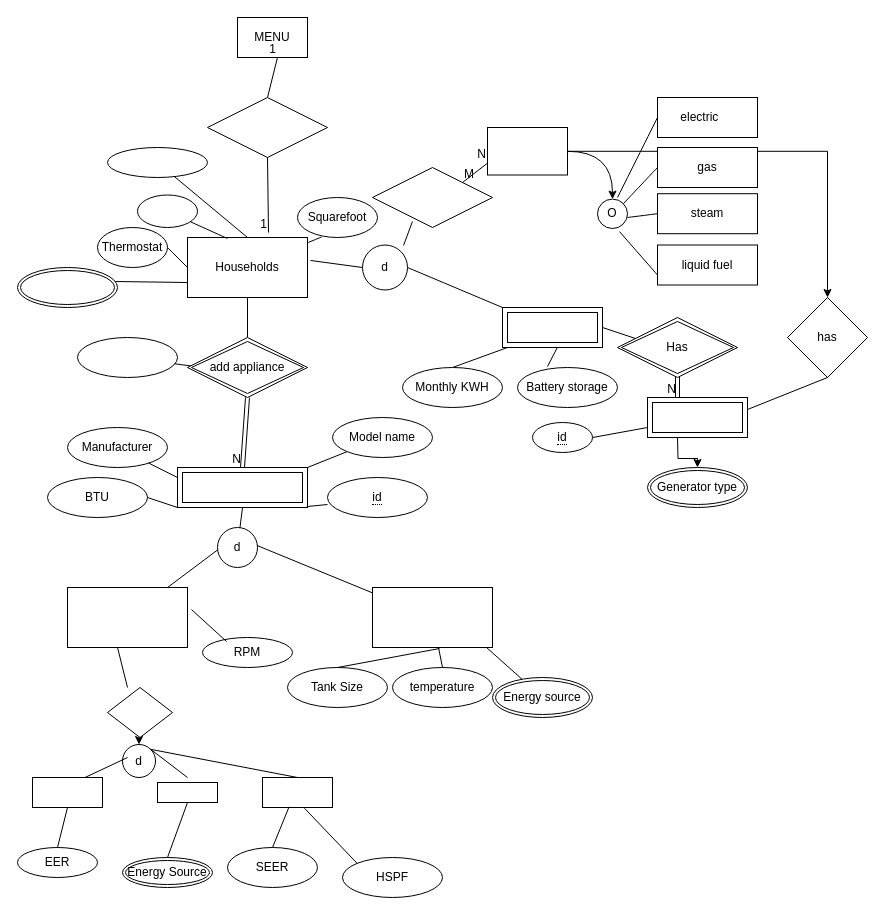
Some shapes in this 885 by 915 pixel diagram are drawn without their labels. Here are the shapes that lost their labels. From the top down, the centre of each, then its label:
At pixel 267 127: "Enter Household information".
At pixel 157 162: "Postal Code".
At pixel 527 150: "Public Utilities".
At pixel 167 211: "Email".
At pixel 432 197: "uses".
At pixel 67 287: "Home type".
At pixel 552 327: "OFF the GRID".
At pixel 127 357: "appliance type".
At pixel 697 417: "Generator".
At pixel 242 487: "Appliance".
At pixel 127 617: "Air handlers".
At pixel 432 617: "Water heaters".
At pixel 139 712: "select heat/colling method".
At pixel 67 792: "Air conditioner".
At pixel 187 792: "Heater".
At pixel 297 792: "Heat Pump".
